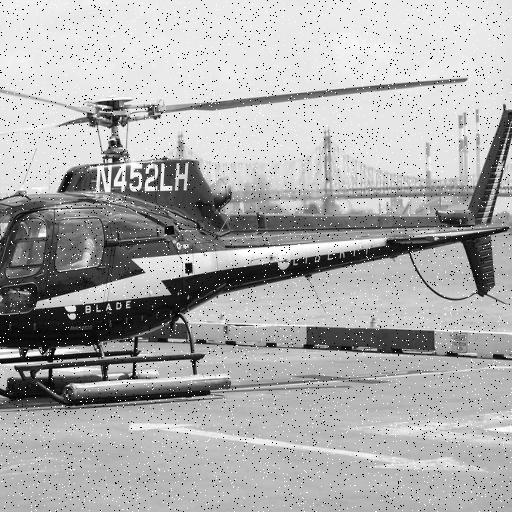helicopter: (1, 70, 512, 400)
